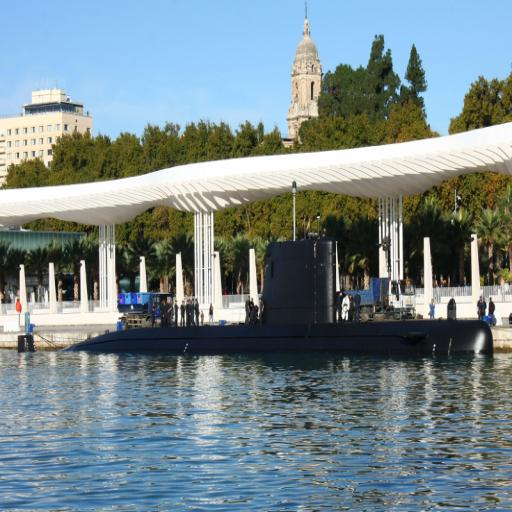submarine: (60, 221, 496, 354)
